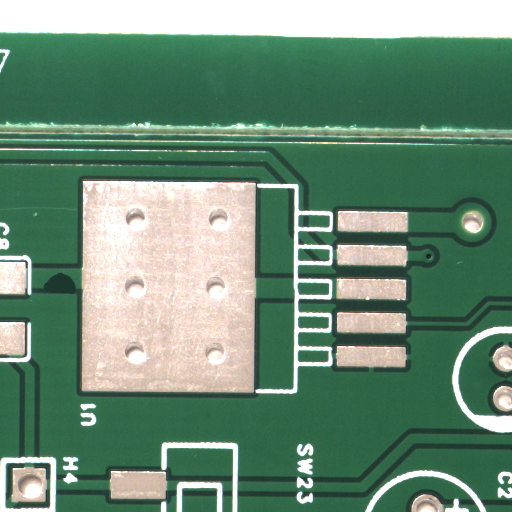Mouse_bite: (58, 280, 93, 301)
